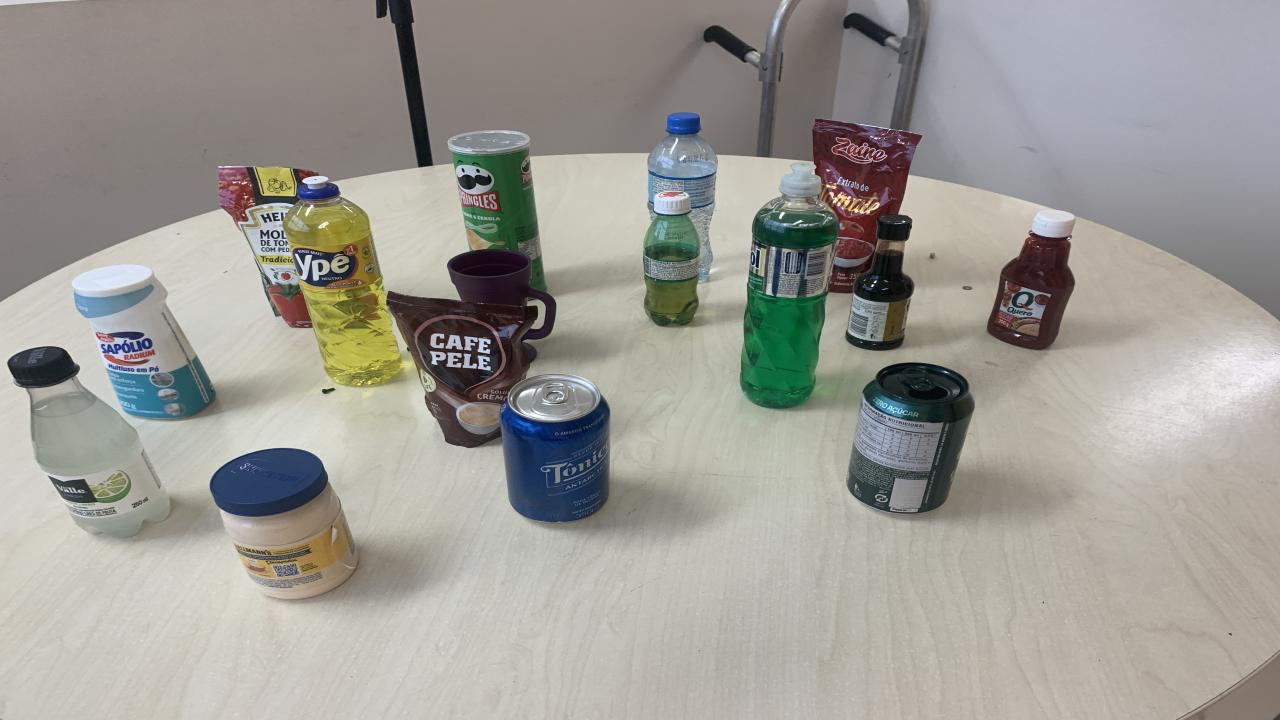Cleaner-Cleanup_Items: (72, 264, 215, 420)
Coffee-Pantry_Items: (388, 292, 538, 448)
Detergent-Cleanup_Items: (282, 176, 402, 386), (740, 163, 838, 409)
English_Sauce-Pantry_Items: (845, 214, 915, 351)
Guarana-Drinks: (642, 191, 700, 326)
Guarana_Can-Drinks: (848, 362, 975, 514)
Ketchup-Pantry_Items: (988, 210, 1075, 349)
Mayonnaise-Pantry_Items: (210, 448, 358, 598)
Pringles-Snacks: (448, 129, 545, 291)
Soda-Drinks: (8, 347, 170, 536)
Tomato_Sauce-Pantry_Items: (812, 118, 922, 292), (218, 167, 318, 328)
Tonic-Drinks: (500, 373, 610, 521)
Water_Bottle-Drinks: (648, 112, 718, 281)
